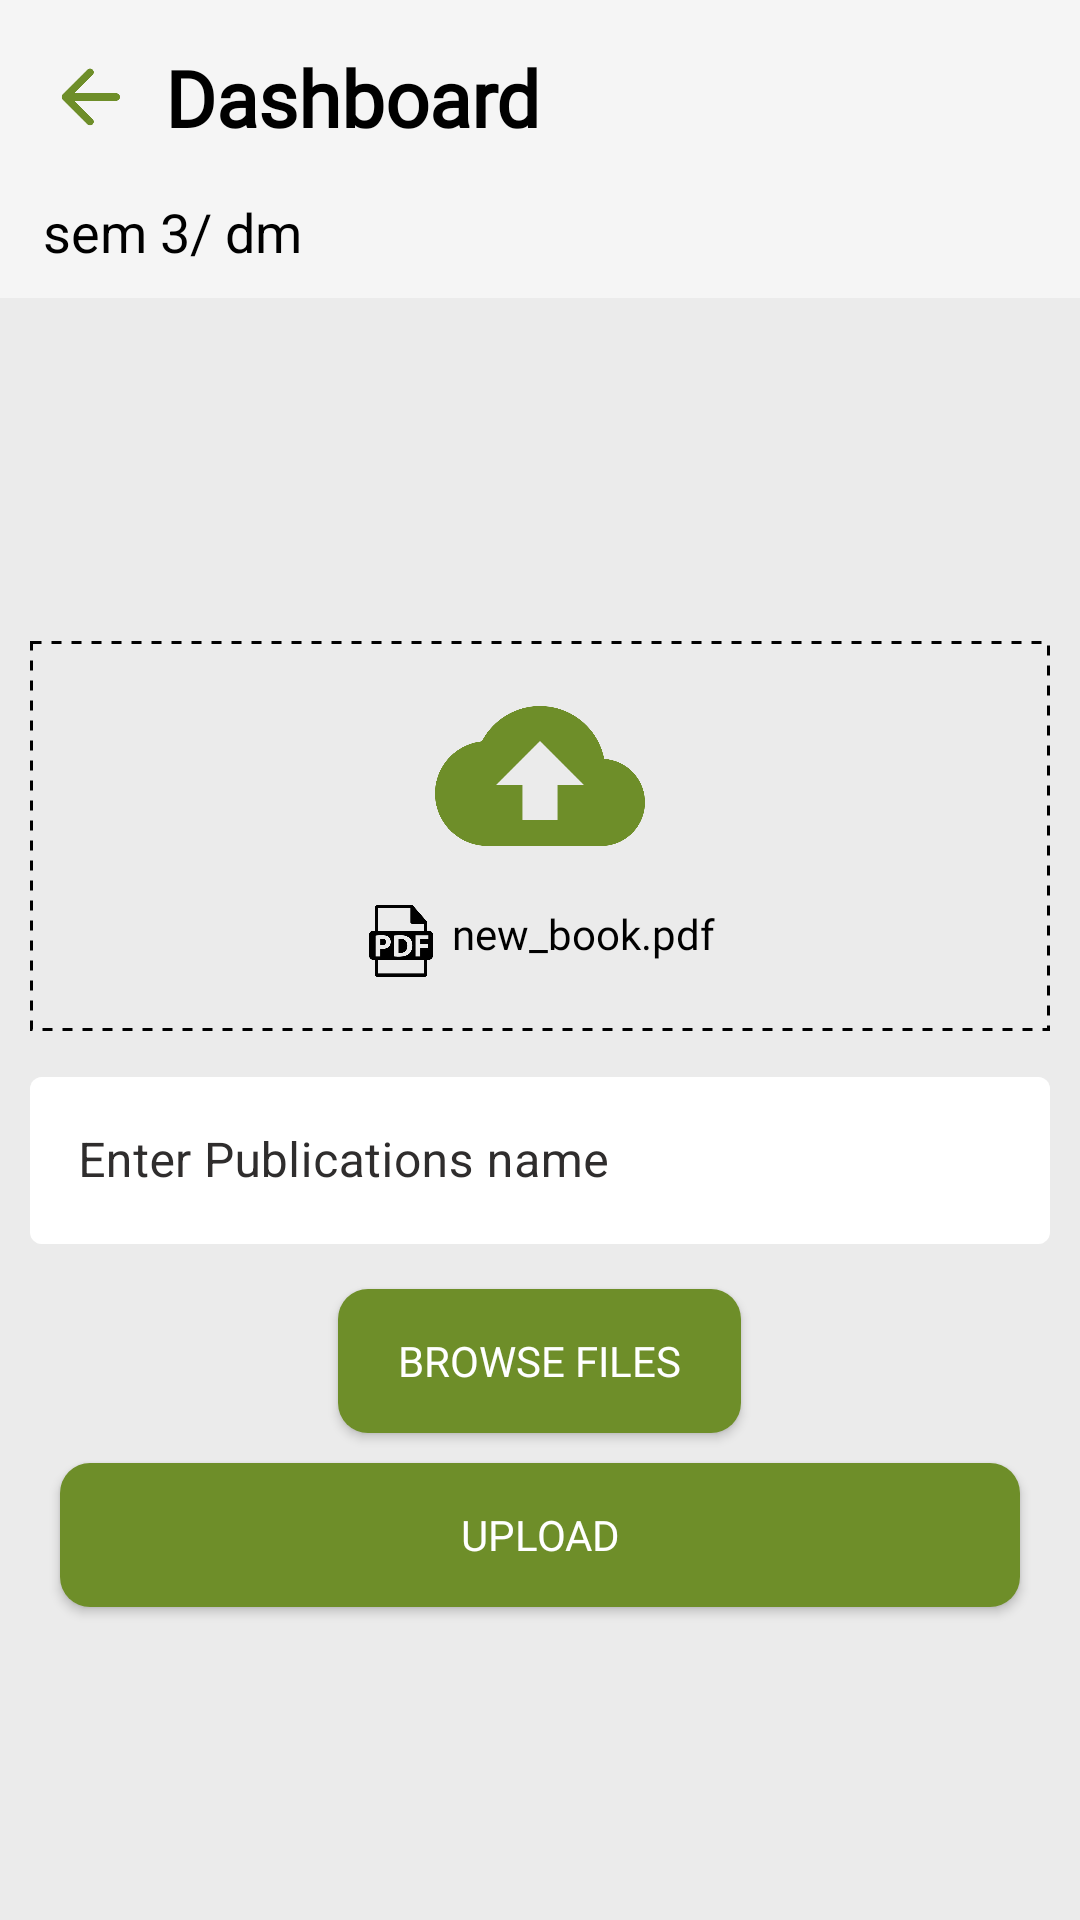

Icon click points for this 1080w x 1920h phone screenshot, format [x,y]:
arrow back: [91,96]
cloud upload: [540,776]
